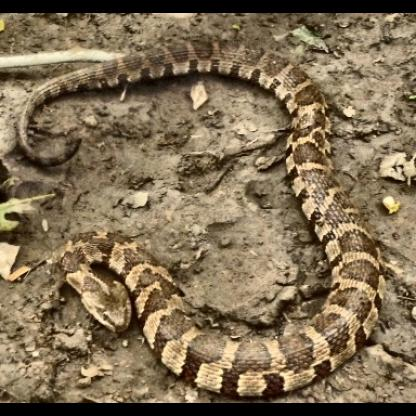Snake: (5, 37, 386, 389), (8, 99, 78, 309), (11, 61, 85, 180), (293, 82, 340, 254), (330, 224, 386, 362)
